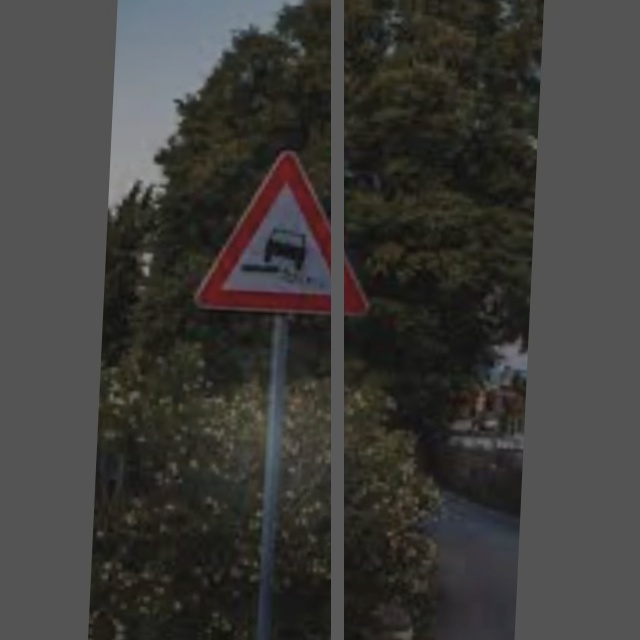Loose_Gravel: (207, 152, 369, 316)
